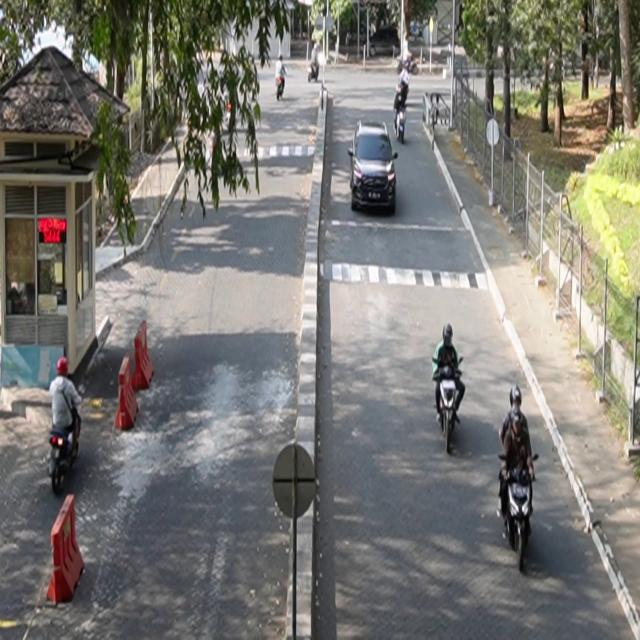car: (349, 120, 399, 215)
